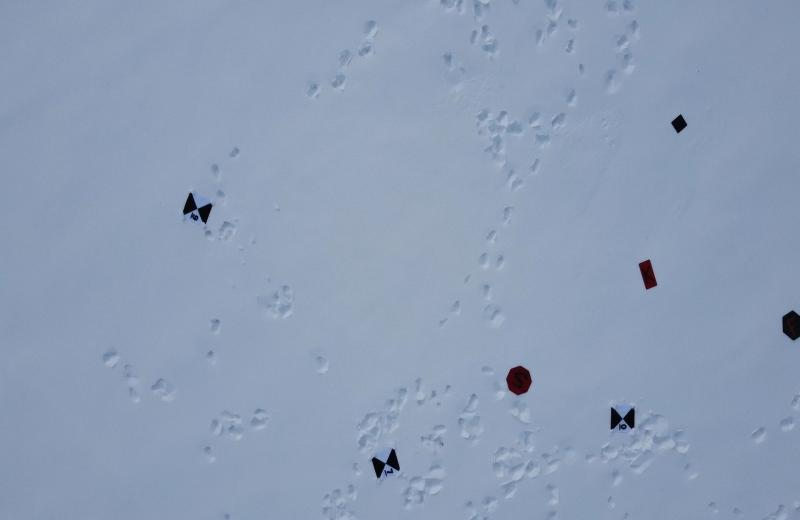Hexagon: (780, 306, 800, 344)
Octagon: (506, 363, 535, 399)
Rectangle: (636, 258, 662, 290)
Square: (669, 113, 688, 135)
